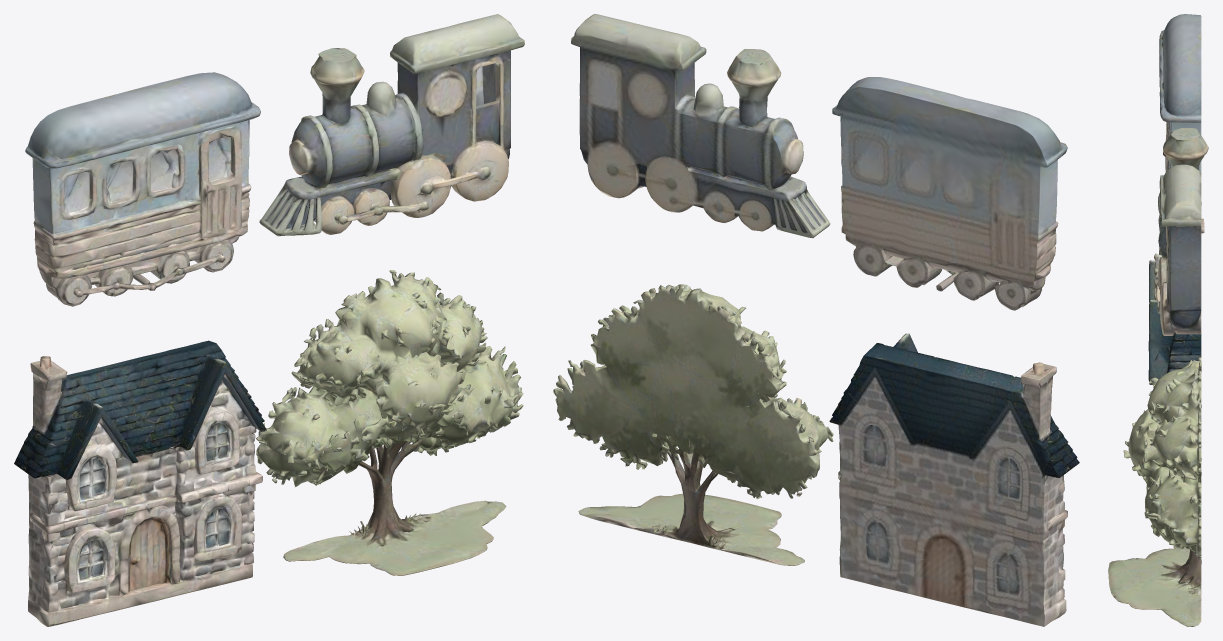
3 renders of one model, left to right at view 1: azimuth 30°, elevation 25°; view 2: azimuth 150°, elevation 25°; view 3: azimuth 270°, elevation 25°, orthographic. The views are drawn at different scales.
Parts seen in each view (by area): view 1: Mesh 1, Mesh 3, Mesh 2, Mesh 4; view 2: Mesh 1, Mesh 3, Mesh 2, Mesh 4; view 3: Mesh 3, Mesh 4, Mesh 2, Mesh 1.
Part boxes in pixels (x1,y1,x2,y2): Mesh 1: (14,340,266,626); Mesh 3: (256,270,523,575); Mesh 2: (25,72,260,306); Mesh 4: (259,14,524,236); Mesh 1: (829,333,1079,626); Mesh 3: (553,284,833,565); Mesh 2: (832,77,1067,310); Mesh 4: (571,14,830,237); Mesh 3: (1108,357,1201,626); Mesh 4: (1154,128,1208,335); Mesh 2: (1159,14,1201,204); Mesh 1: (1148,218,1204,384).
Size of the model in its own units: 1.9 by 1.8 by 0.3819.
4 materials, 4 textured.
